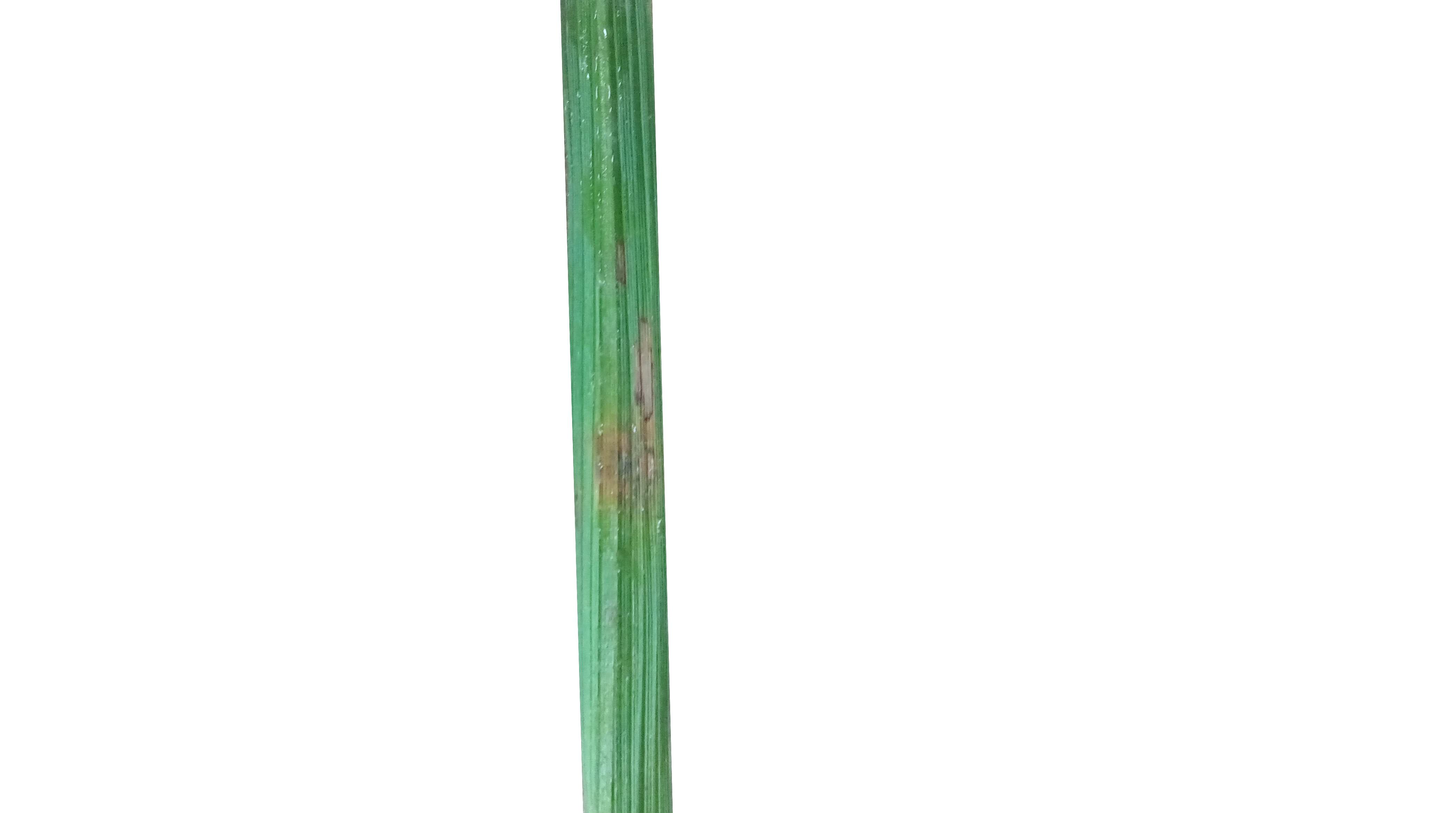Rice blast: (579, 327, 660, 525)
